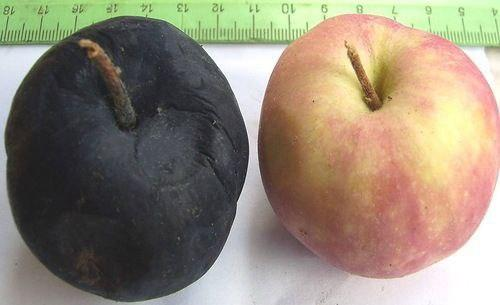Apple: (6, 20, 248, 303), (257, 14, 499, 278)
